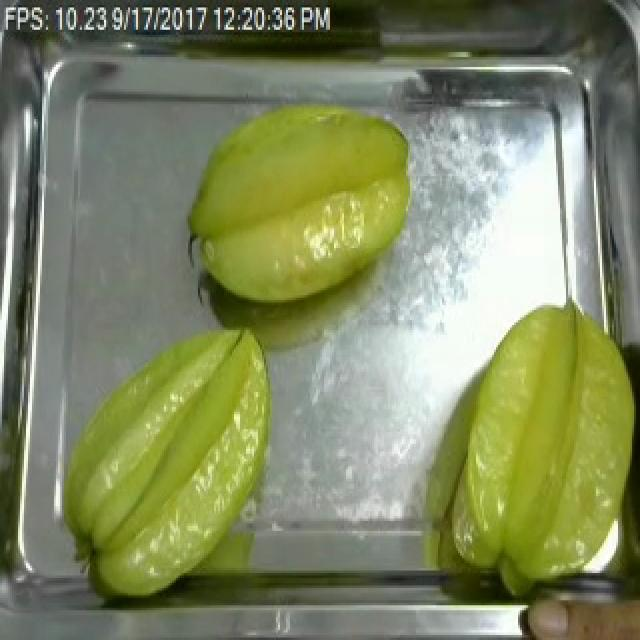fruit: (52, 308, 284, 608), (440, 298, 640, 605), (176, 89, 424, 320)
